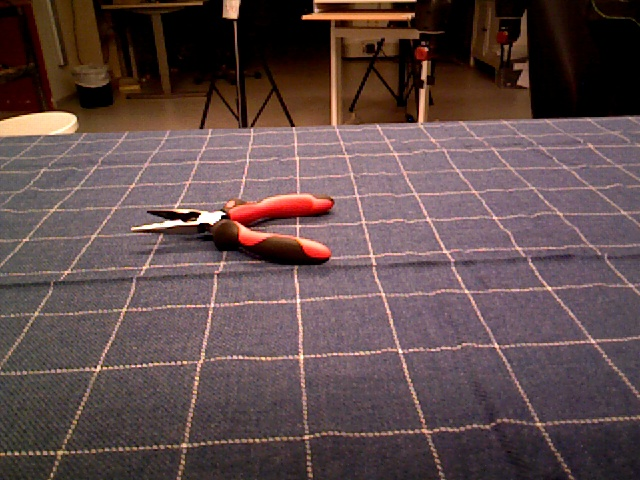plier1: (130, 191, 333, 267)
